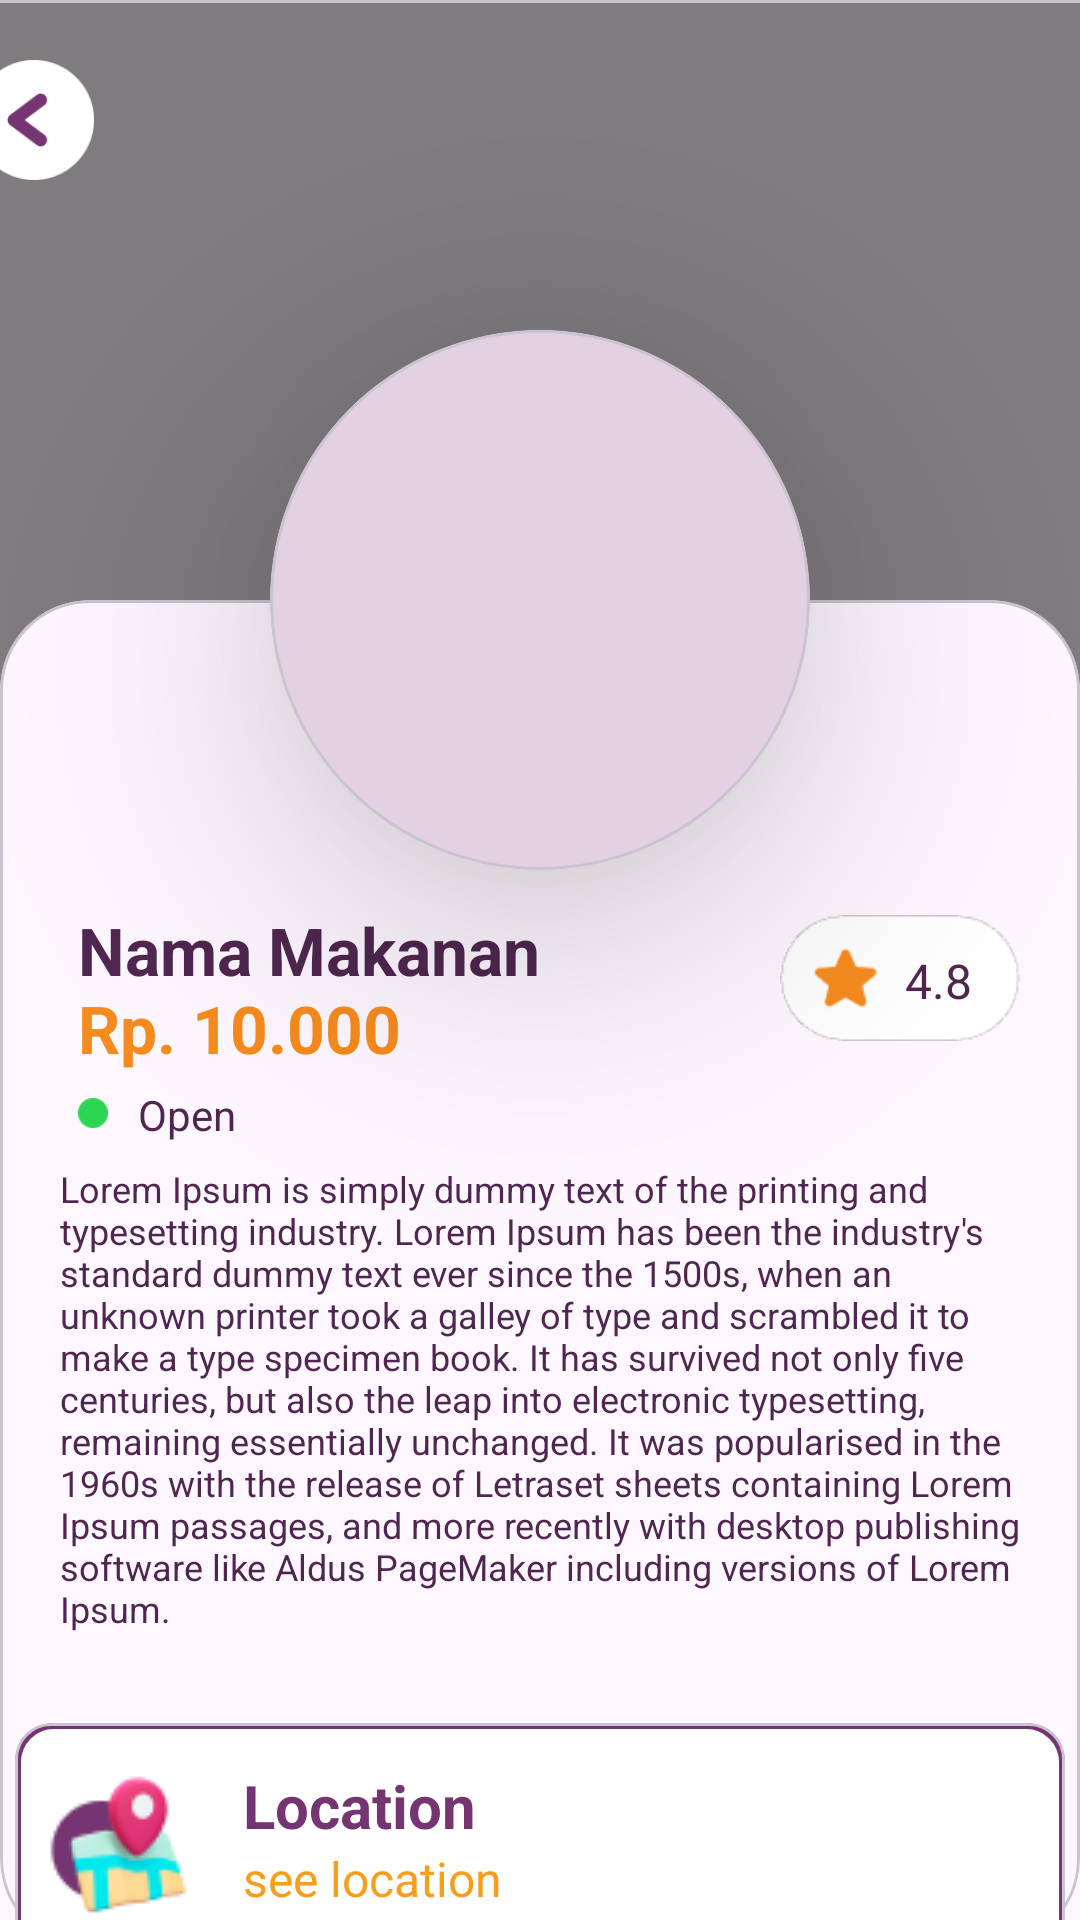

Icons on this 1080×1920 Android screen, each with the point to tap as (x,y):
map: (118,1844)
